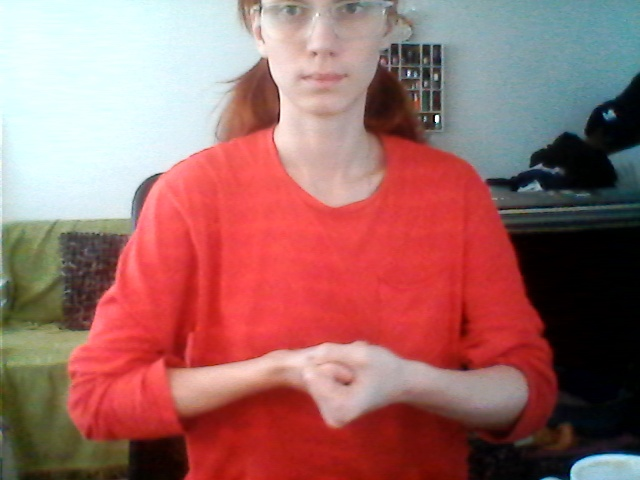hasic: (266, 311, 435, 449)
